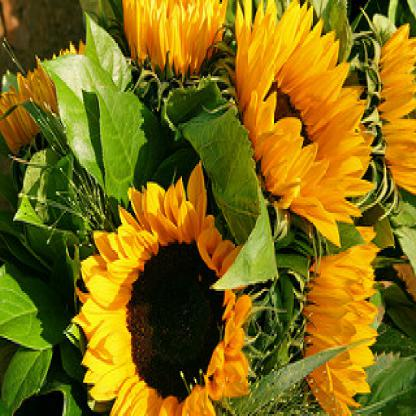SUN FLOWER: (58, 163, 273, 413)
